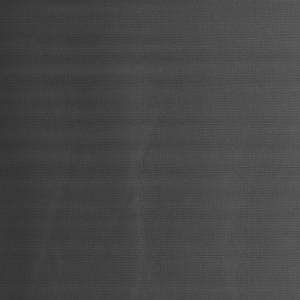Wrinkle: (112, 80, 178, 300), (13, 134, 91, 300)
